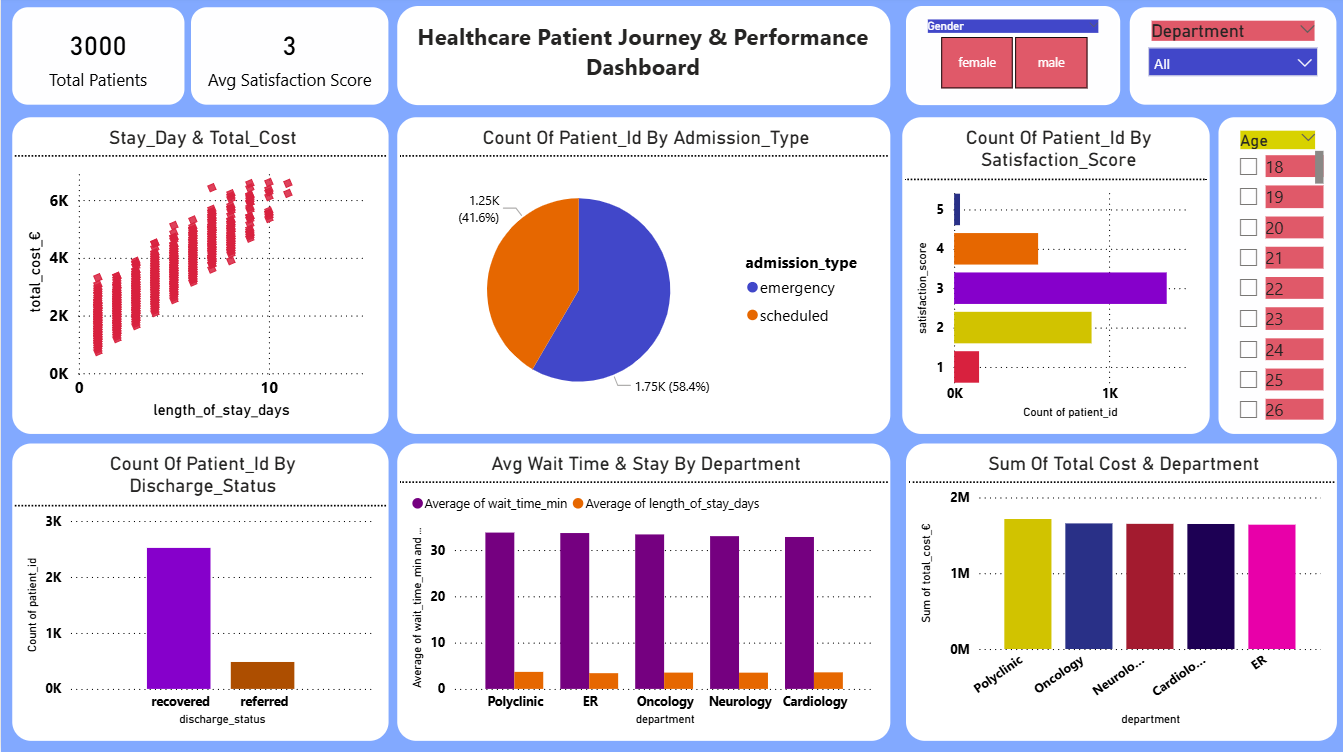

The dashboard page shown, as its layout file describes it:
{"tool":"powerbi","page":{"name":"DAY 11","canvas":[1280,720],"ordinal":0},"visuals":[{"type":"card","fields":{"Values":["healthcare_patient_journey.Total Patients"]},"box":[10.9,10.9,164.1,92.9],"z":0},{"type":"card","fields":{"Values":["healthcare_patient_journey.Avg Satisfaction Score"]},"box":[181,10.9,188.2,92.9],"z":1000},{"type":"pieChart","title":"Count Of Patient_Id By Admission_Type","fields":{"Category":["healthcare_patient_journey.admission_type"],"Y":["CountNonNull(healthcare_patient_journey.patient_id)"]},"box":[377.6,115.8,469.3,301.6],"z":2000},{"type":"clusteredBarChart","title":"Count Of Patient_Id By Satisfaction_Score","fields":{"Category":["healthcare_patient_journey.satisfaction_score"],"Y":["CountNonNull(healthcare_patient_journey.patient_id)"]},"box":[857.8,115.8,293.2,301.6],"z":3000},{"type":"clusteredColumnChart","title":"Sum Of Total Cost & Department","fields":{"Category":["healthcare_patient_journey.department"],"Y":["Sum(healthcare_patient_journey.total_cost_€)"]},"box":[861.4,425.9,410.2,283.5],"z":4000},{"type":"clusteredColumnChart","title":"Avg Wait Time & Stay By Department","fields":{"Category":["healthcare_patient_journey.department"],"Y":["Avg(healthcare_patient_journey.wait_time_min)","Avg(healthcare_patient_journey.length_of_stay_days)"]},"box":[377.6,425.9,469.3,283.5],"z":5000},{"type":"scatterChart","title":"Stay_Day & Total_Cost","fields":{"X":["healthcare_patient_journey.length_of_stay_days"],"Y":["healthcare_patient_journey.total_cost_€"]},"box":[10.9,115.8,358.3,301.6],"z":6000},{"type":"columnChart","title":"Count Of Patient_Id By Discharge_Status","fields":{"Category":["healthcare_patient_journey.discharge_status"],"Y":["CountNonNull(healthcare_patient_journey.patient_id)"]},"box":[10.9,425.9,358.3,283.5],"z":7000},{"type":"slicer","fields":{"Values":["healthcare_patient_journey.gender"]},"box":[861.4,9.7,203.9,94.1],"z":8000},{"type":"slicer","fields":{"Values":["healthcare_patient_journey.age"]},"box":[1159.4,115.8,112.2,301.6],"z":9000},{"type":"slicer","fields":{"Values":["healthcare_patient_journey.department"]},"box":[1074.9,10.9,196.6,92.9],"z":10000},{"type":"textbox","box":[377.6,9.7,469.3,94.1],"z":11000}]}

Visuals, with their boxes in screenshot pixels (x1, y1, x2, y2), scaled from the page's 1280x720 canvas onto the 1343x752 screenshot:
card - healthcare_patient_journey.Total Patients: 11/11/184/108
card - healthcare_patient_journey.Avg Satisfaction Score: 190/11/387/108
"Count Of Patient_Id By Admission_Type" pieChart: 396/121/889/436
"Count Of Patient_Id By Satisfaction_Score" clusteredBarChart: 900/121/1208/436
"Sum Of Total Cost & Department" clusteredColumnChart: 904/445/1334/741
"Avg Wait Time & Stay By Department" clusteredColumnChart: 396/445/889/741
"Stay_Day & Total_Cost" scatterChart: 11/121/387/436
"Count Of Patient_Id By Discharge_Status" columnChart: 11/445/387/741
slicer - healthcare_patient_journey.gender: 904/10/1118/108
slicer - healthcare_patient_journey.age: 1216/121/1334/436
slicer - healthcare_patient_journey.department: 1128/11/1334/108
textbox: 396/10/889/108
